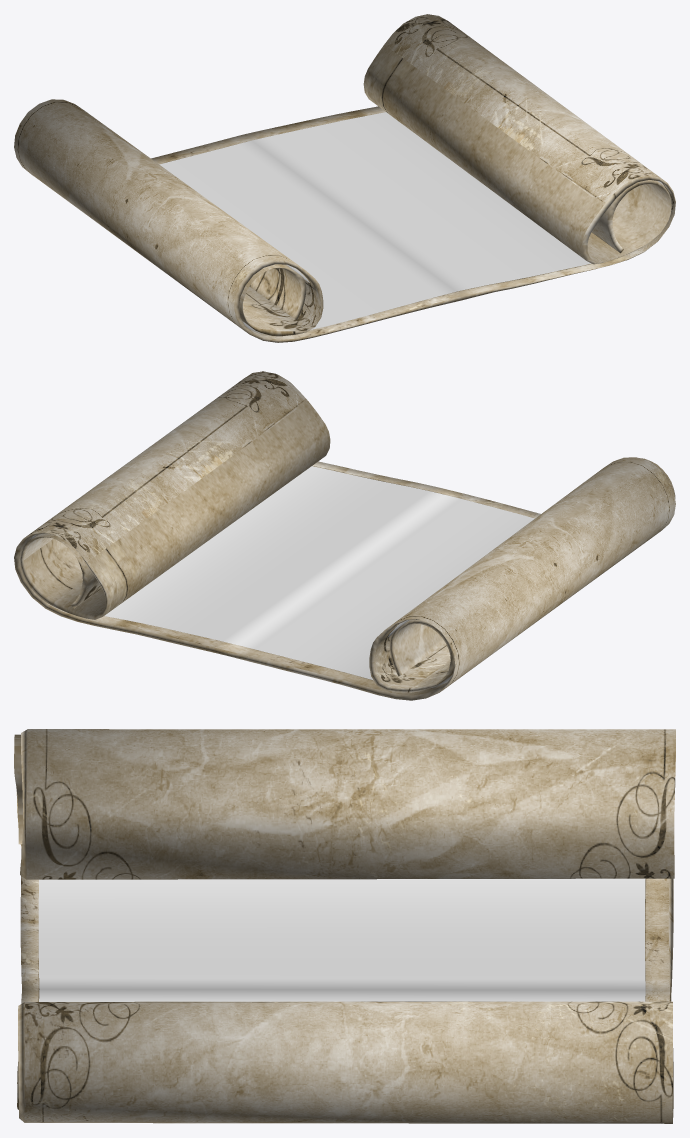
The model's file is Scroll.fbx.
The picture shows the model from 3 angles, top to bottom: view 1: azimuth 30°, elevation 25°; view 2: azimuth 150°, elevation 25°; view 3: azimuth 270°, elevation 25°; orthographic projection. The views are drawn at different scales.
Visible parts, largest first — view 1: Scroll; view 2: Scroll; view 3: Scroll.
Boxes of the visible parts, x1,y1,x2,y2 form: Scroll: [14, 14, 675, 342]; Scroll: [14, 371, 675, 700]; Scroll: [14, 729, 675, 1123].
Bounding box in the file's own units: 0.9382 × 0.1765 × 0.8265.
2 materials, 1 textured.
